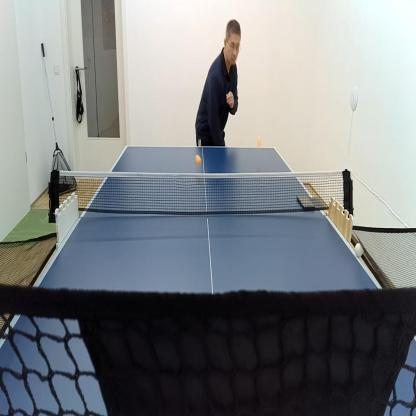Ball: (354, 240, 365, 260), (196, 152, 203, 166), (256, 136, 262, 150)
